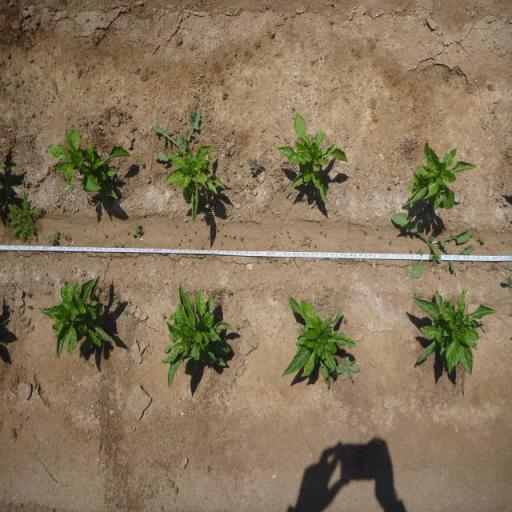plant: (407, 284, 497, 380), (166, 282, 236, 396), (275, 293, 358, 388), (274, 112, 348, 206), (43, 128, 131, 201), (39, 273, 114, 357), (398, 138, 476, 212), (166, 143, 227, 220)
weed: (390, 208, 473, 281), (147, 107, 205, 163), (9, 190, 46, 245), (439, 240, 477, 272), (334, 354, 360, 384), (247, 156, 264, 176), (46, 232, 58, 245), (504, 276, 512, 294), (130, 222, 140, 236), (476, 234, 486, 244), (200, 244, 206, 260), (62, 232, 71, 240), (22, 178, 28, 188), (123, 309, 130, 316), (113, 298, 119, 306), (227, 290, 234, 296), (343, 316, 348, 324), (26, 292, 32, 298), (138, 160, 144, 166), (287, 230, 291, 239), (236, 323, 240, 331), (268, 258, 273, 264), (216, 228, 221, 233), (239, 236, 243, 242), (307, 242, 311, 248), (387, 184, 391, 190), (223, 232, 227, 238), (364, 230, 367, 236), (390, 239, 393, 245), (248, 320, 250, 328), (324, 230, 326, 236), (356, 165, 358, 170), (162, 314, 164, 318)
